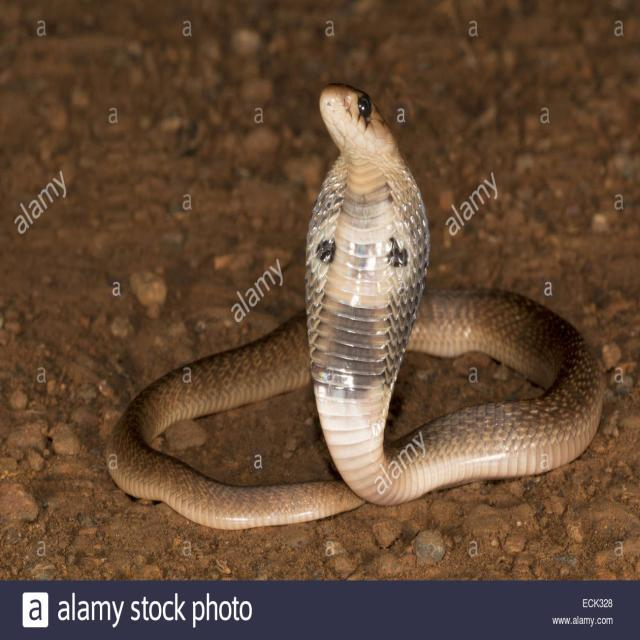Snake: (104, 82, 606, 530)
